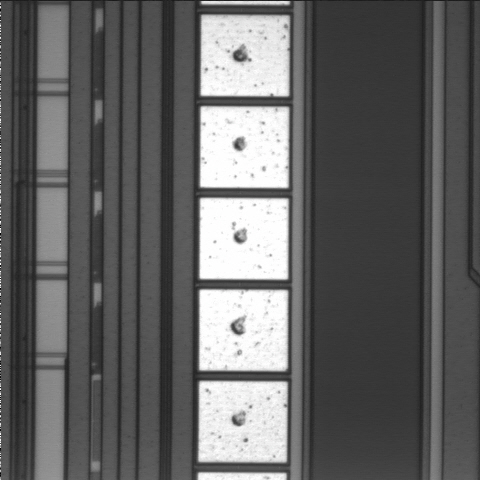pad: (200, 106, 289, 188), (199, 198, 288, 280), (199, 289, 288, 371), (198, 381, 287, 462), (201, 15, 289, 96)
